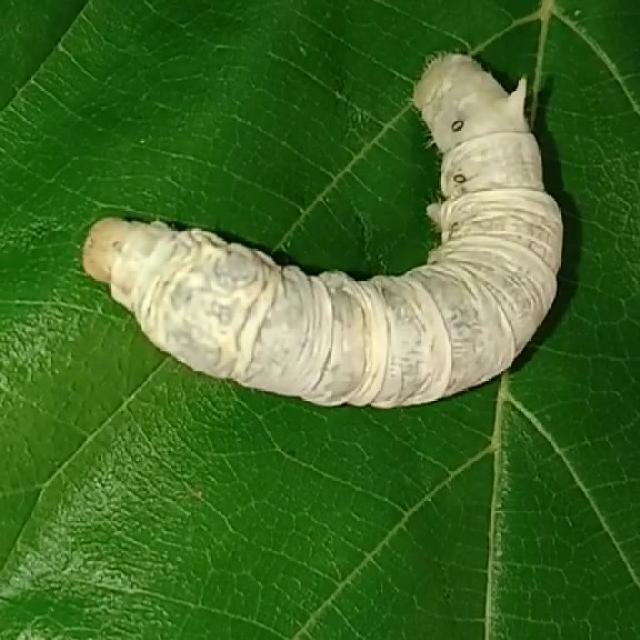Grasserie: (74, 17, 580, 441)
